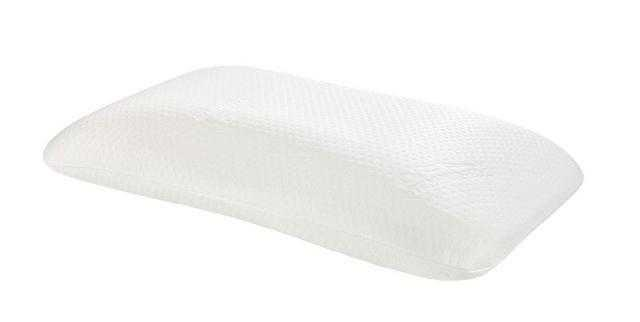pillow: (42, 62, 584, 282)
